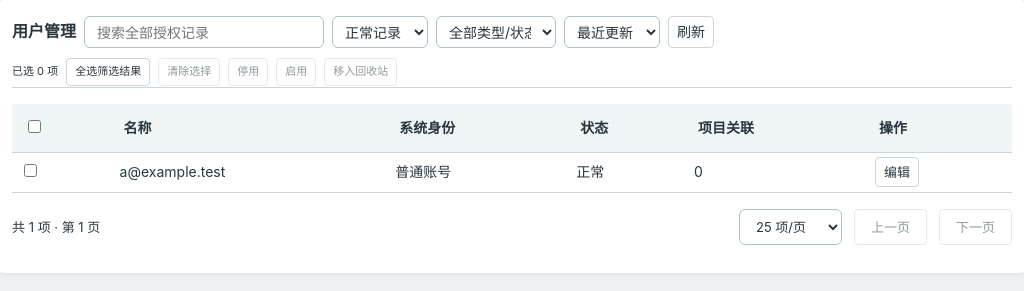
Test: cannot select stale rows while the entered filter has not reached the server
This screenshot has width=1024, height=291.
Check: the cell "a@example.test" is shown, box [112, 152, 387, 192]
Type "different" into the search field named "搜索用户管理" at (204, 32), box [84, 16, 324, 48]
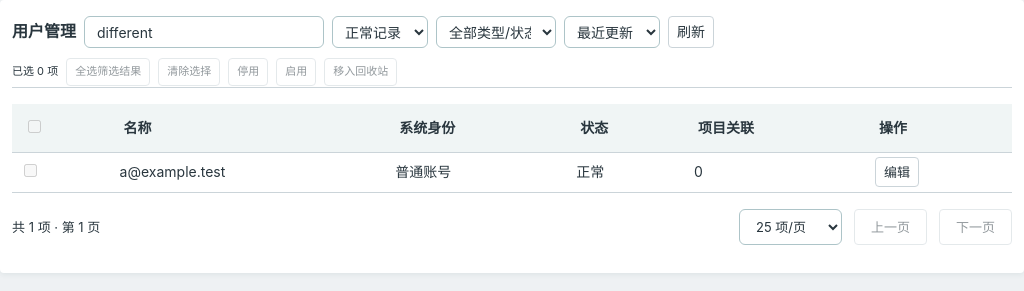
Check: the checkbox named "全选本页" is disabled, box [28, 120, 41, 133]
Check: the button "全选筛选结果" is disabled, box [66, 58, 150, 86]
